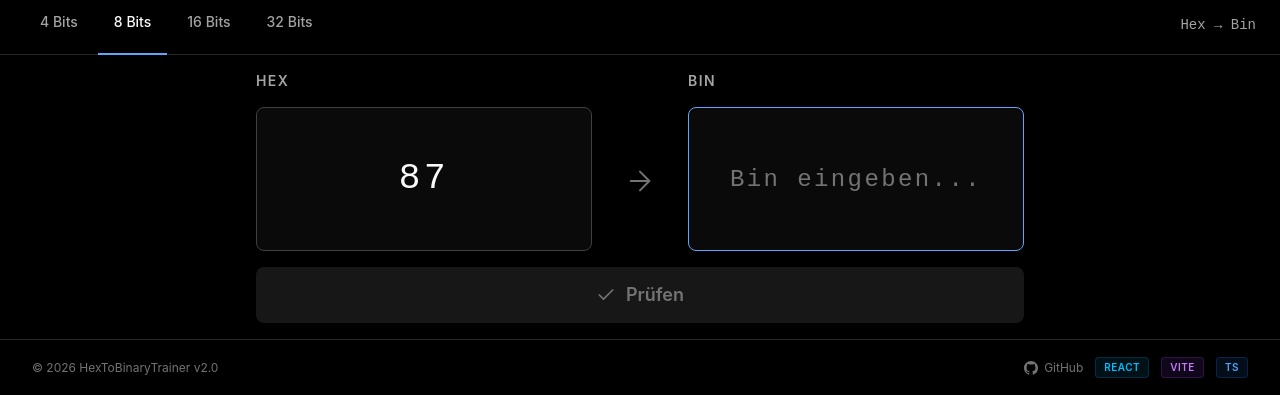
it: HexBinTrainer › filters input based on target format
Note: Default mode is HexToBin, so input should only accept 0 and 1
Type "01ab01" into the field at (856, 179), box [713,162,999,196]
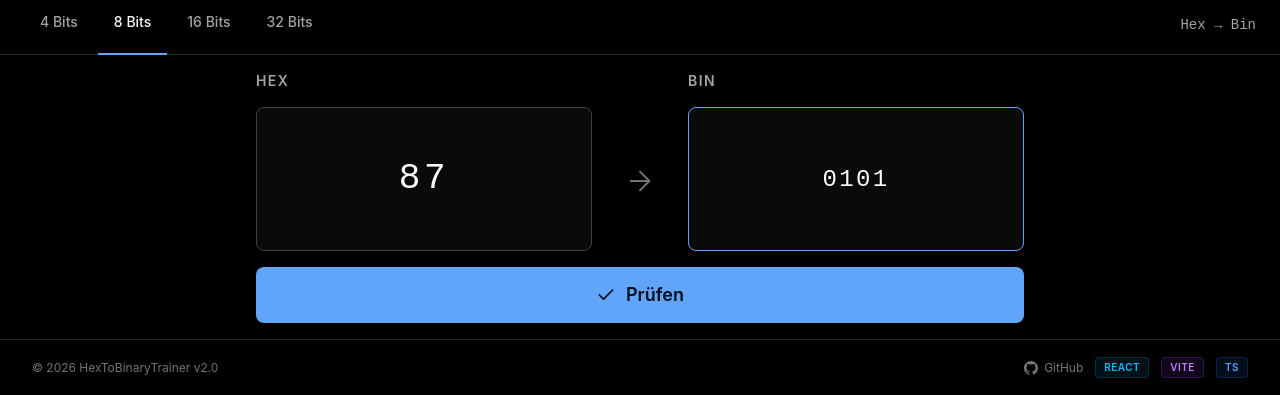
Now the field holds "0101", box [713,162,999,196]
